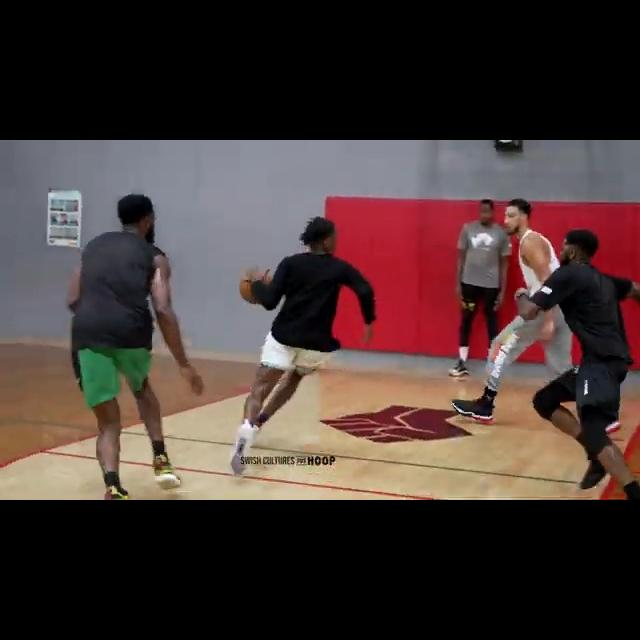basketball: (238, 267, 274, 306)
person: (62, 193, 205, 499), (228, 205, 377, 476), (514, 227, 640, 500), (456, 198, 584, 432), (447, 197, 507, 382)
